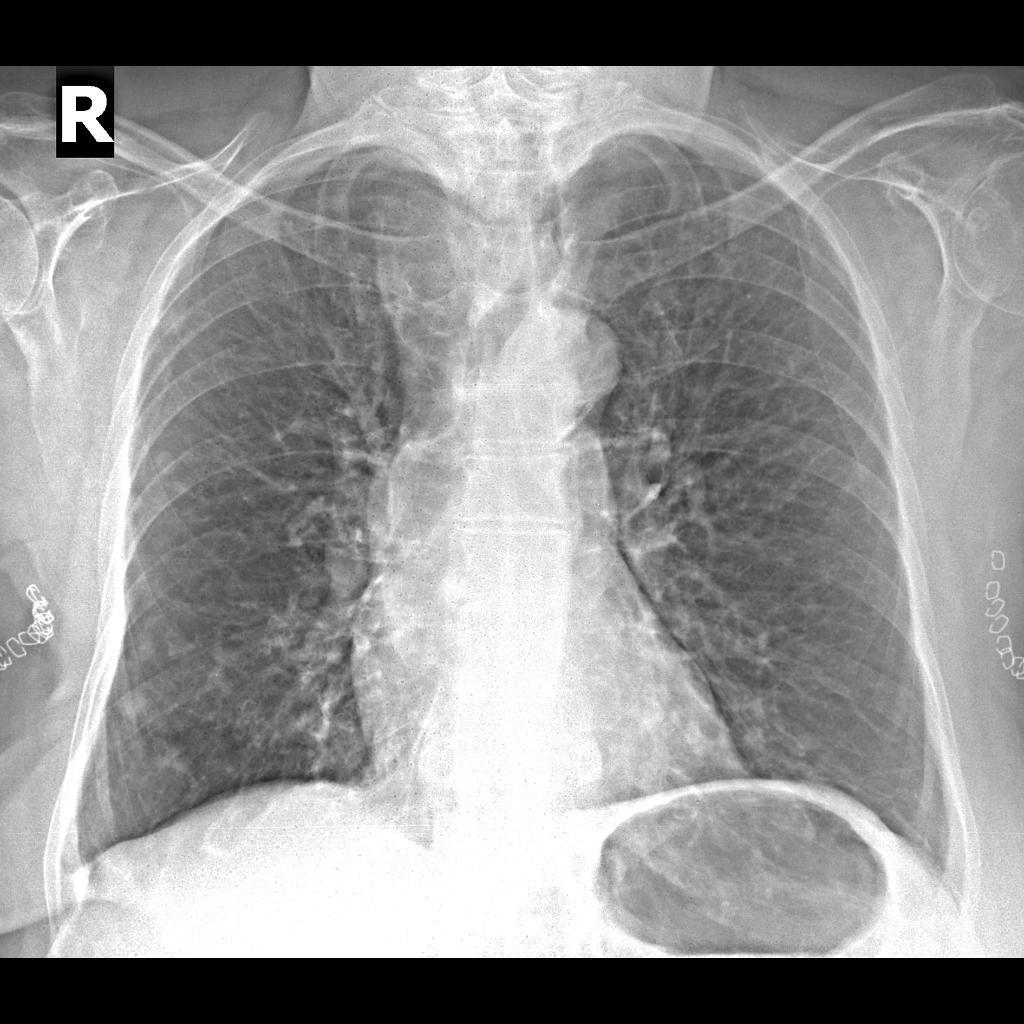Nodule: (116, 674, 158, 734)
